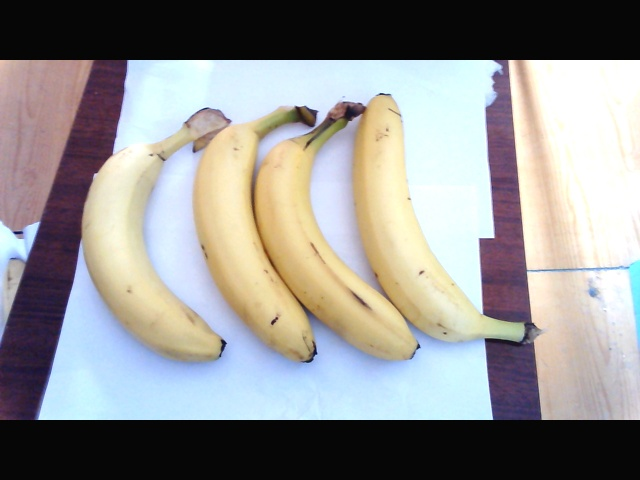banana: (199, 109, 472, 363), (90, 120, 219, 360)
